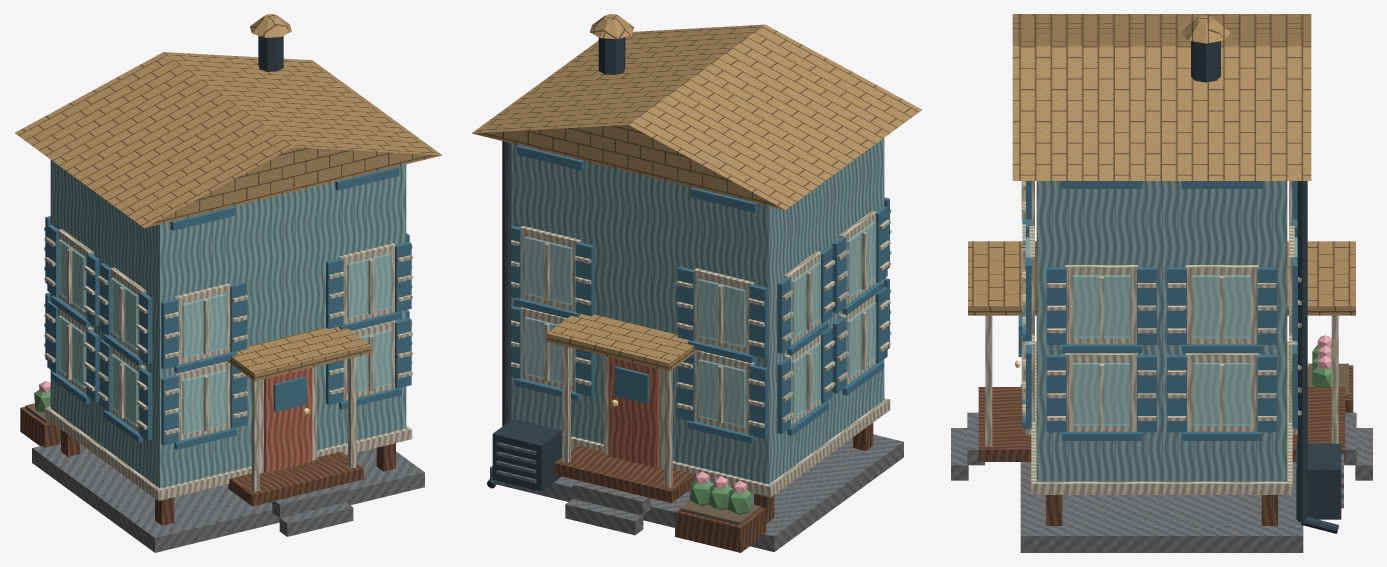
The model's file is house_beach_lv3.glb.
The picture shows the model from 3 angles, left to right: view 1: azimuth 30°, elevation 25°; view 2: azimuth 150°, elevation 25°; view 3: azimuth 270°, elevation 25°; orthographic projection. The views are drawn at different scales.
Parts seen in each view (by area): view 1: gable_roof, walls, foundation, front_porch_canopy, front_door, floor_trim, front_deck, front_window_frame.002, front_window_frame.003, front_window_frame, front_window_glass.002, front_window_glass (+40 smaller); view 2: gable_roof, walls, foundation, back_porch_canopy, back_door, back_deck, back_window_frame.003, back_ac_unit, back_window_frame.002, back_window_frame, floor_trim, back_downspout (+44 smaller); view 3: gable_roof, walls, foundation, right_window_frame, right_window_frame.001, right_window_frame.002, right_window_frame.003, floor_trim, front_porch_canopy, back_porch_canopy, back_downspout, right_window_glass.002 (+30 smaller).
Boxes of the visible parts, x1=… form: gable_roof: x1=15, y1=52, x2=442, y2=227; walls: x1=50, y1=160, x2=406, y2=488; foundation: x1=32, y1=444, x2=424, y2=552; front_porch_canopy: x1=227, y1=326, x2=370, y2=381; front_door: x1=264, y1=368, x2=312, y2=472; floor_trim: x1=44, y1=406, x2=412, y2=500; front_deck: x1=228, y1=451, x2=363, y2=506; front_window_frame.002: x1=174, y1=283, x2=231, y2=364; front_window_frame.003: x1=338, y1=243, x2=395, y2=324; front_window_frame: x1=174, y1=361, x2=230, y2=440; front_window_glass.002: x1=182, y1=293, x2=227, y2=358; front_window_glass: x1=182, y1=369, x2=227, y2=434; gable_roof: x1=471, y1=24, x2=922, y2=209; walls: x1=511, y1=138, x2=884, y2=484; foundation: x1=490, y1=434, x2=903, y2=551; back_porch_canopy: x1=546, y1=314, x2=698, y2=371; back_door: x1=608, y1=357, x2=658, y2=467; back_deck: x1=554, y1=445, x2=695, y2=503; back_window_frame.003: x1=520, y1=226, x2=580, y2=311; back_ac_unit: x1=492, y1=418, x2=561, y2=491; back_window_frame.002: x1=694, y1=268, x2=754, y2=353; back_window_frame: x1=695, y1=350, x2=754, y2=434; floor_trim: x1=562, y1=398, x2=890, y2=497; back_downspout: x1=502, y1=141, x2=511, y2=426; gable_roof: x1=1012, y1=14, x2=1311, y2=180; walls: x1=1036, y1=181, x2=1287, y2=481; foundation: x1=1020, y1=384, x2=1303, y2=552; right_window_frame: x1=1065, y1=353, x2=1137, y2=431; right_window_frame.001: x1=1186, y1=353, x2=1258, y2=431; right_window_frame.002: x1=1065, y1=265, x2=1137, y2=343; right_window_frame.003: x1=1186, y1=265, x2=1258, y2=343; floor_trim: x1=1031, y1=341, x2=1292, y2=494; front_porch_canopy: x1=968, y1=241, x2=1036, y2=315; back_porch_canopy: x1=1287, y1=241, x2=1355, y2=315; back_downspout: x1=1297, y1=181, x2=1307, y2=522; right_window_glass.002: x1=1073, y1=275, x2=1130, y2=338.
Bounding box in the file's own units: 3.15 × 4.33 × 3.36.
Materials: 13 (7 with a texture image).
